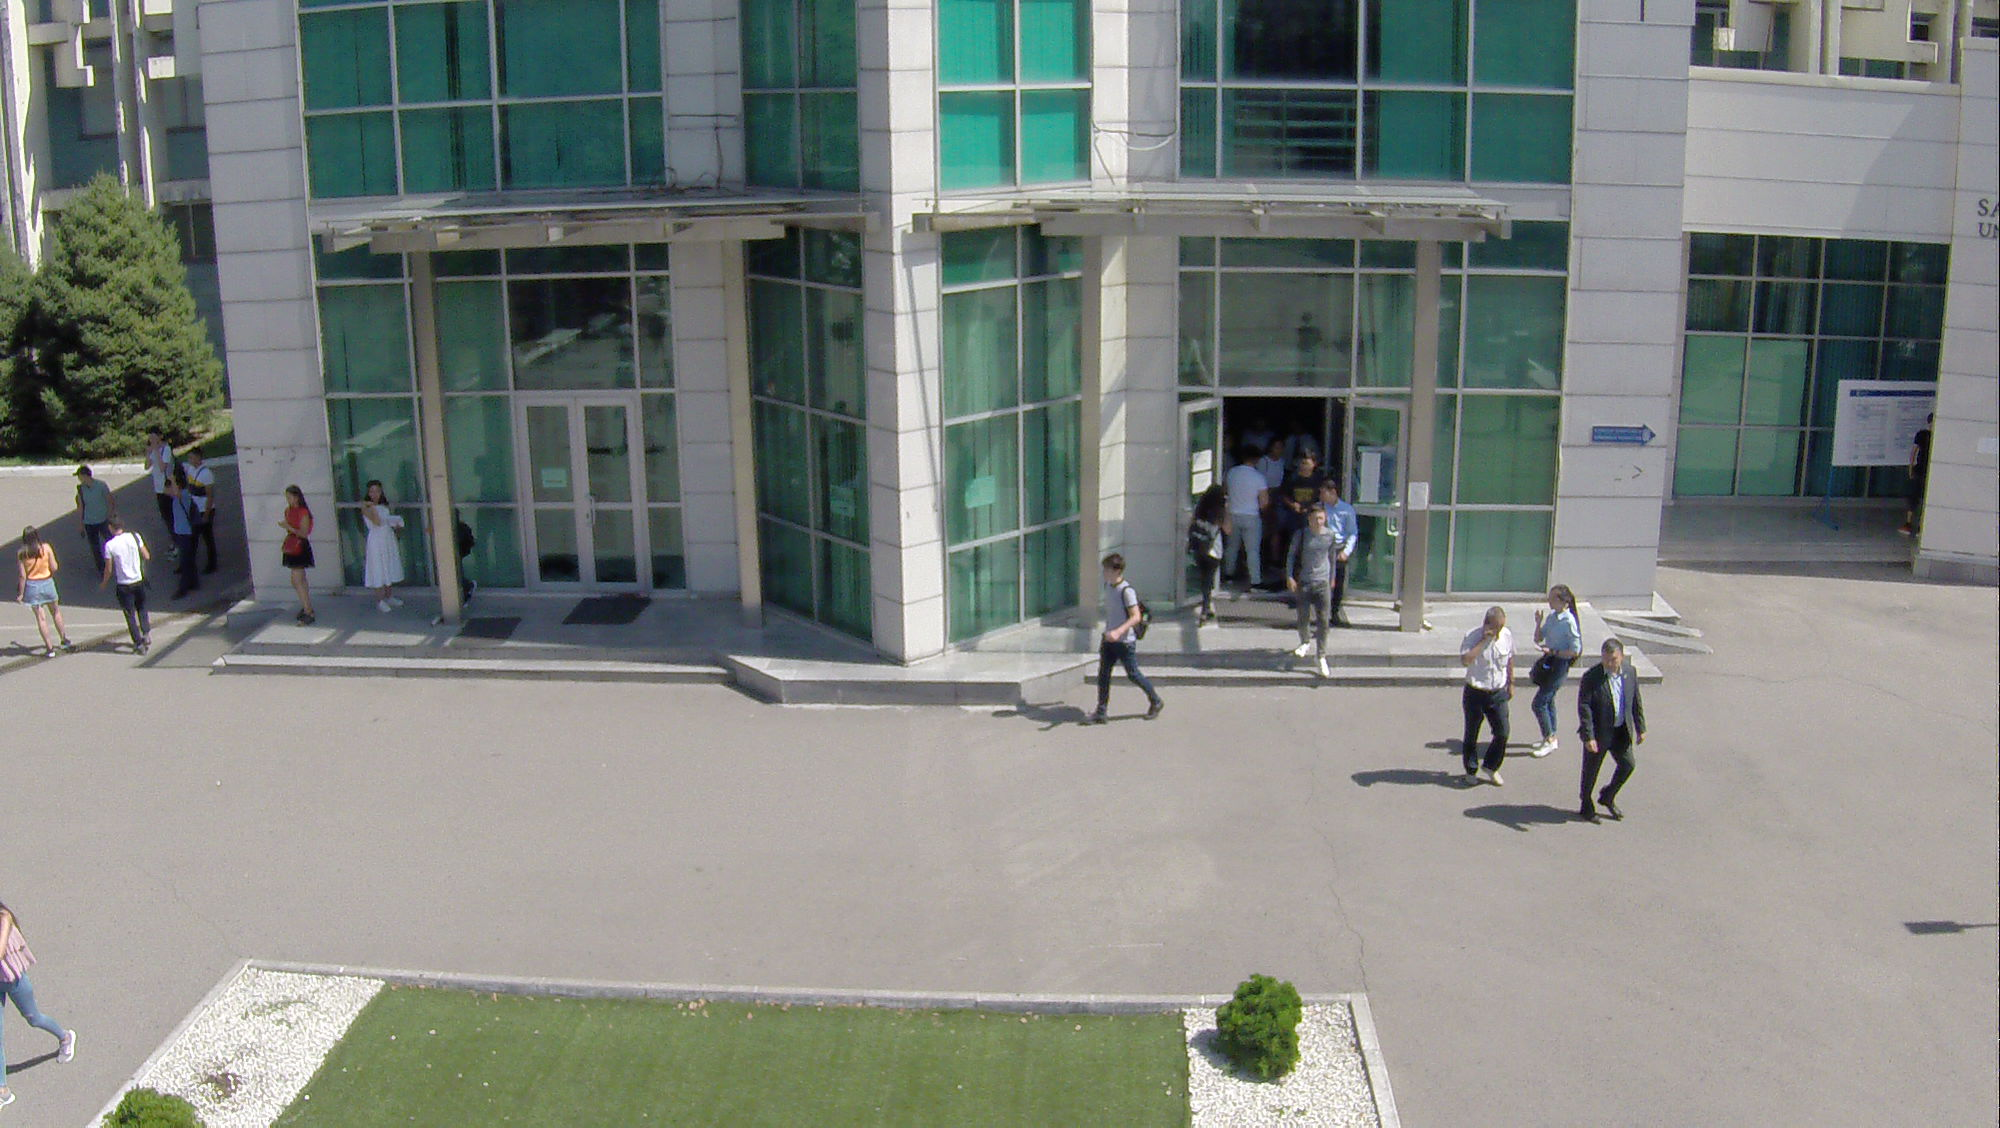person: (1078, 550, 1167, 725), (1567, 635, 1643, 839), (1452, 606, 1516, 790), (1523, 582, 1580, 766), (11, 523, 78, 662), (1280, 504, 1334, 676), (98, 507, 156, 659), (1177, 480, 1230, 626), (358, 482, 413, 618), (273, 484, 324, 628), (1220, 446, 1267, 593), (184, 444, 223, 581), (167, 472, 198, 596), (73, 461, 109, 552), (141, 421, 170, 508), (1285, 446, 1320, 506)
